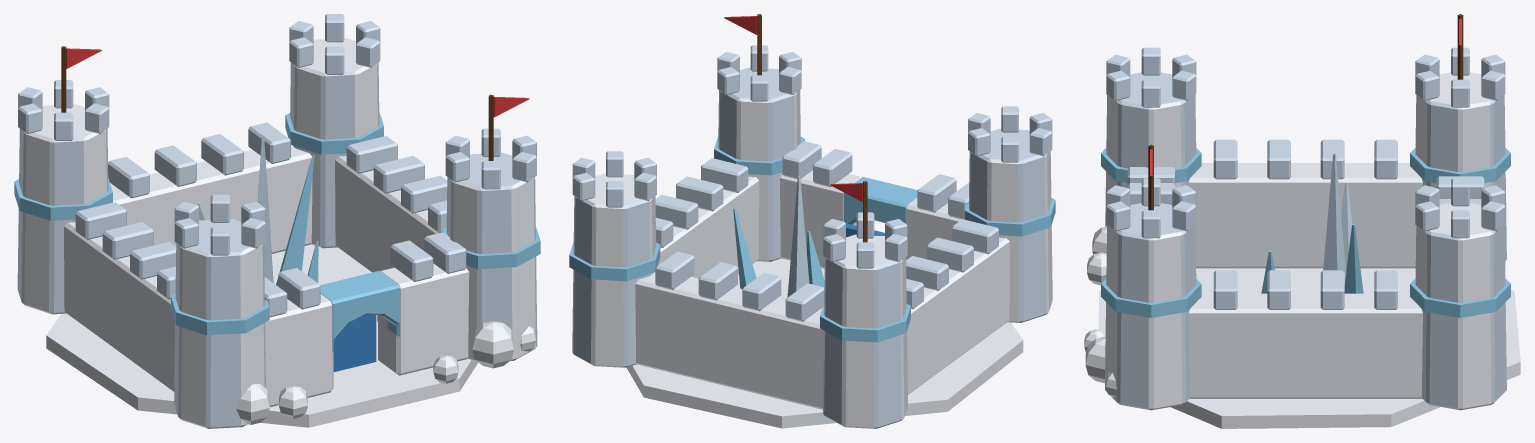
Rendered from snow-castle-2x2.glb.
3 views of the same model, side by side, from view 1: azimuth 30°, elevation 25°; view 2: azimuth 150°, elevation 25°; view 3: azimuth 270°, elevation 25° (orthographic). The views are drawn at different scales.
Parts seen in each view (by area): view 1: snow-castle-2x2; view 2: snow-castle-2x2; view 3: snow-castle-2x2.
Part boxes in pixels (x1,y1,x2,y2): snow-castle-2x2: [14, 14, 540, 428]; snow-castle-2x2: [569, 14, 1055, 428]; snow-castle-2x2: [1084, 14, 1520, 428].
Bounding box in the file's own units: 1.76 × 1.18 × 1.8.
1 material, 1 textured.
